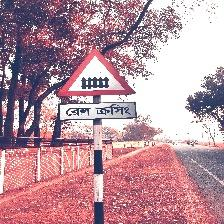Rail-crossing: (56, 49, 137, 123)
